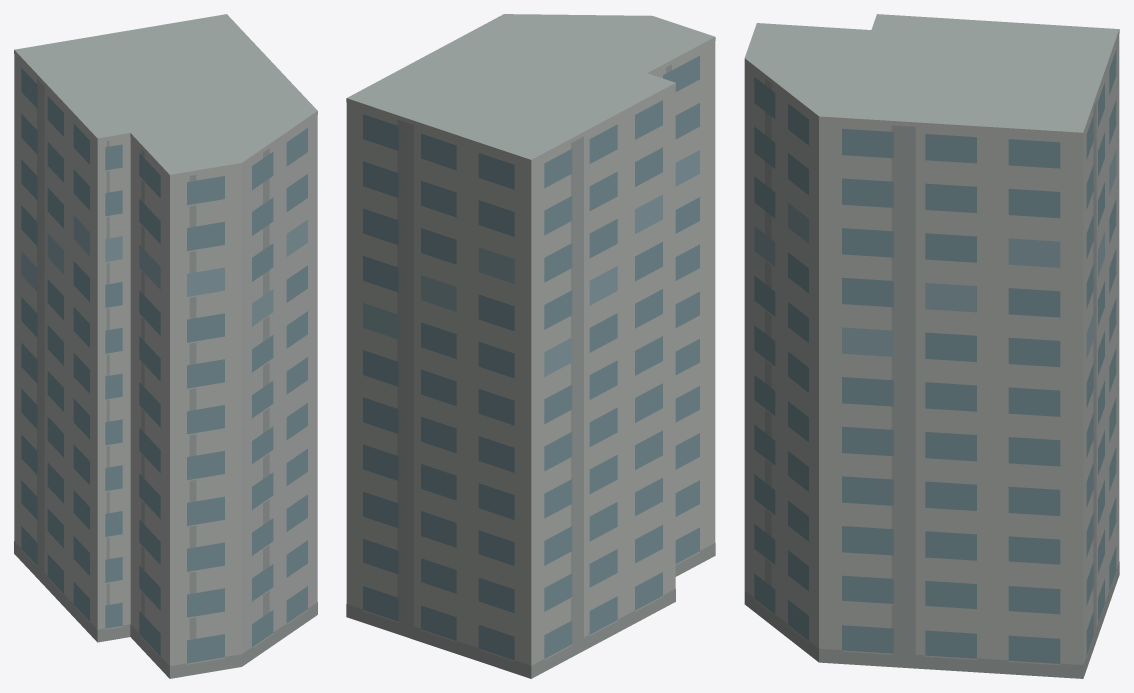
Rendered from residential-a34aab35-ad11-43f7-9676-5d716f46cdee.glb.
The picture shows the model from 3 angles, left to right: view 1: azimuth 30°, elevation 25°; view 2: azimuth 150°, elevation 25°; view 3: azimuth 270°, elevation 25°; orthographic projection. The views are drawn at different scales.
Visible parts, largest first — view 1: residential-a34aab35-ad11-43f7-9676-5d716f46cdee.tmp; view 2: residential-a34aab35-ad11-43f7-9676-5d716f46cdee.tmp; view 3: residential-a34aab35-ad11-43f7-9676-5d716f46cdee.tmp.
Part boxes in pixels (x1,y1,x2,y2): residential-a34aab35-ad11-43f7-9676-5d716f46cdee.tmp: (14, 14, 317, 678); residential-a34aab35-ad11-43f7-9676-5d716f46cdee.tmp: (346, 14, 715, 678); residential-a34aab35-ad11-43f7-9676-5d716f46cdee.tmp: (744, 14, 1119, 678).
Bounding box in the file's own units: 13.53 × 29 × 18.05.
